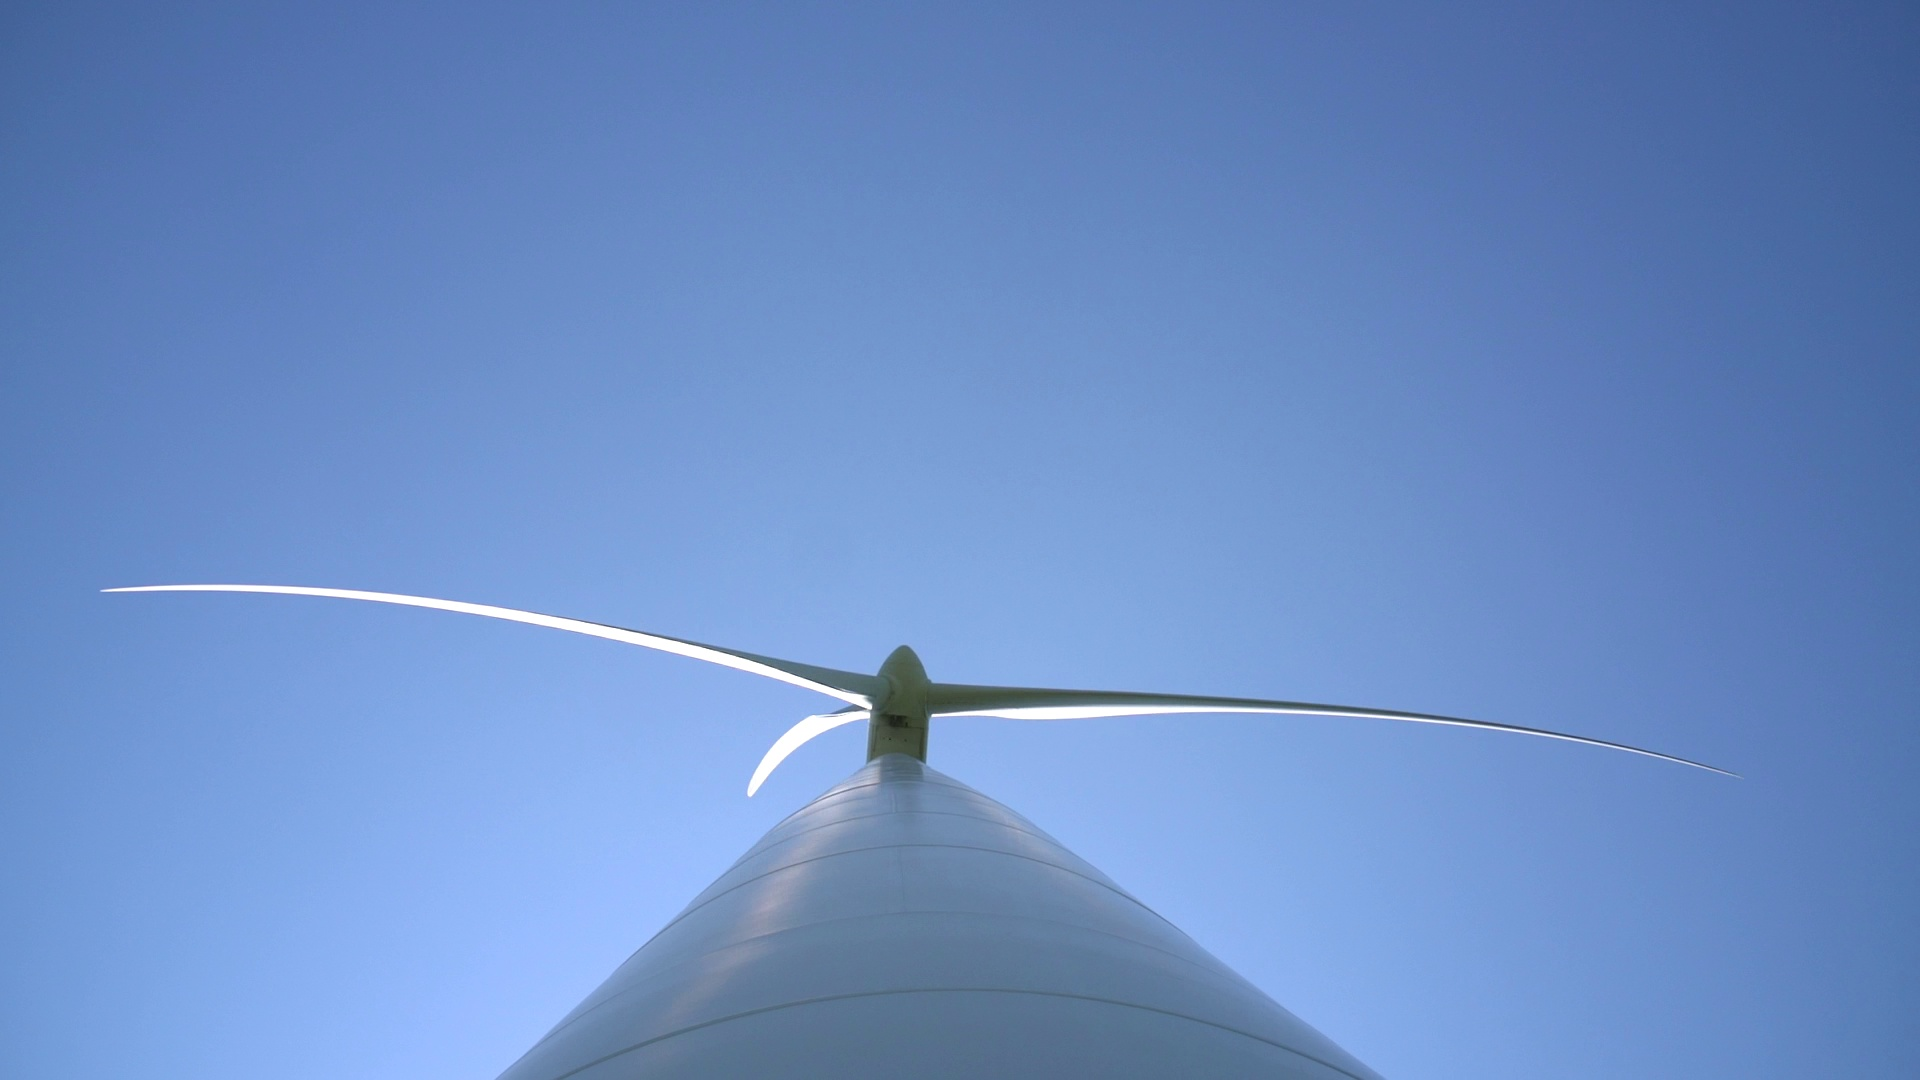turbine: (931, 640, 1776, 828), (79, 576, 880, 705), (741, 698, 880, 828)
